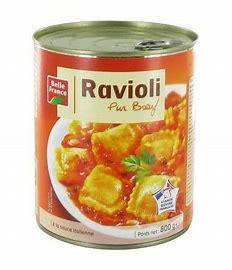metal: (34, 21, 198, 248)
